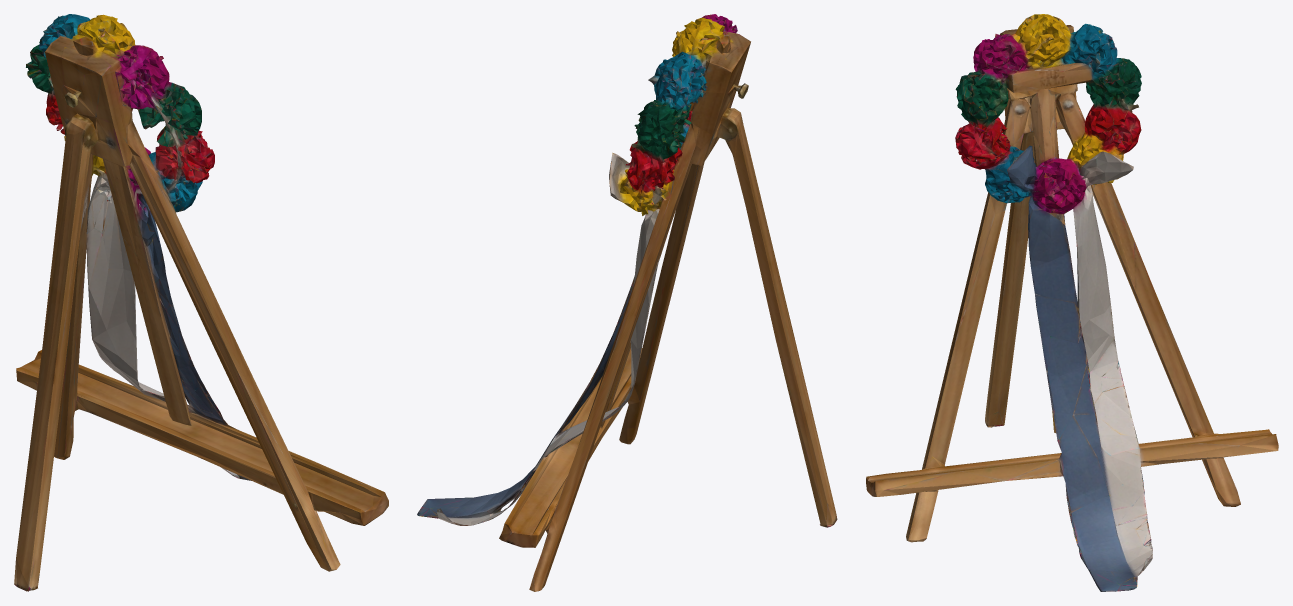
File: 93447725-D165-3442-895F-D90039099DAB_512.glb
The picture shows the model from 3 angles, left to right: view 1: azimuth 30°, elevation 25°; view 2: azimuth 150°, elevation 25°; view 3: azimuth 270°, elevation 25°; orthographic projection. The views are drawn at different scales.
Parts seen in each view (by area): view 1: Pfingstrosenkranz Bunt_16k_0.5k; view 2: Pfingstrosenkranz Bunt_16k_0.5k; view 3: Pfingstrosenkranz Bunt_16k_0.5k.
Boxes of the visible parts, x1,y1,x2,y2 form: Pfingstrosenkranz Bunt_16k_0.5k: (14,14,388,591); Pfingstrosenkranz Bunt_16k_0.5k: (417,14,837,591); Pfingstrosenkranz Bunt_16k_0.5k: (866,14,1278,591).
Size of the model in its own units: 0.3524 by 0.495 by 0.3947.
1 material, 1 textured.
